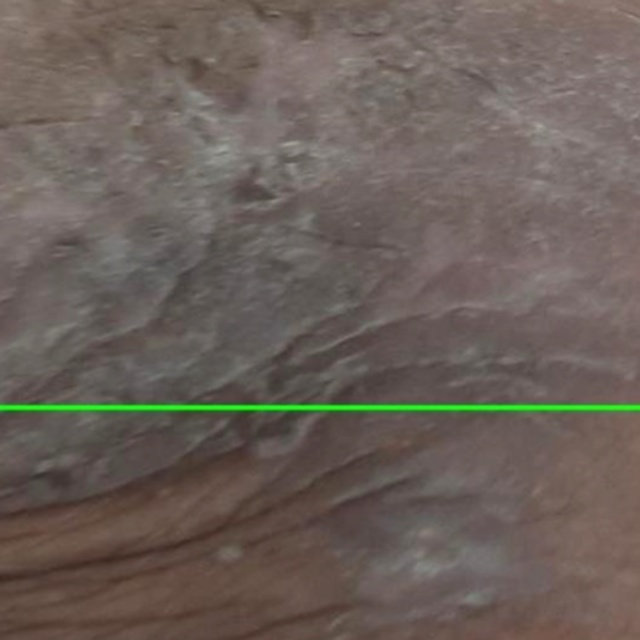Eczema: (0, 407, 639, 639)
